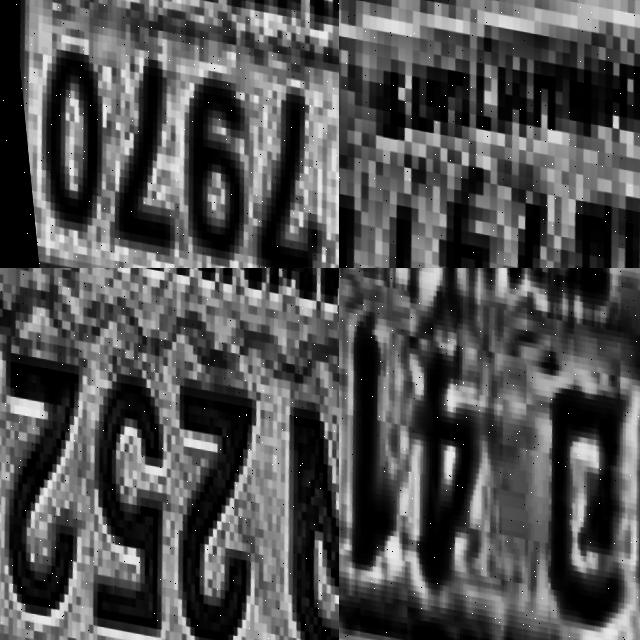license-plate: (0, 268, 339, 640), (339, 268, 640, 640), (0, 0, 339, 268), (339, 0, 640, 268)
